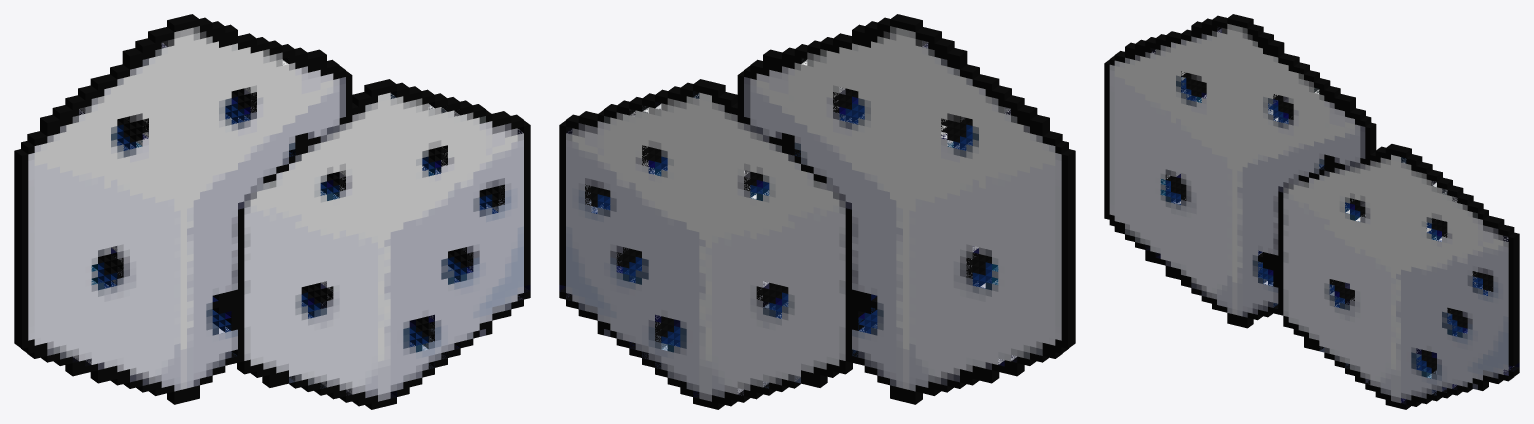
Rendered from LuckyDiceRelic.fbx.
3 views of the same model, side by side, from view 1: azimuth 30°, elevation 25°; view 2: azimuth 150°, elevation 25°; view 3: azimuth 330°, elevation 25° (orthographic). The views are drawn at different scales.
Parts seen in each view (by area): view 1: luckydice; view 2: luckydice; view 3: luckydice.
Boxes of the visible parts, x1,y1,x2,y2 form: luckydice: (14,14,530,409); luckydice: (559,14,1075,409); luckydice: (1104,14,1519,409).
Bounding box in the file's own units: 7900 × 6419 × 198.
